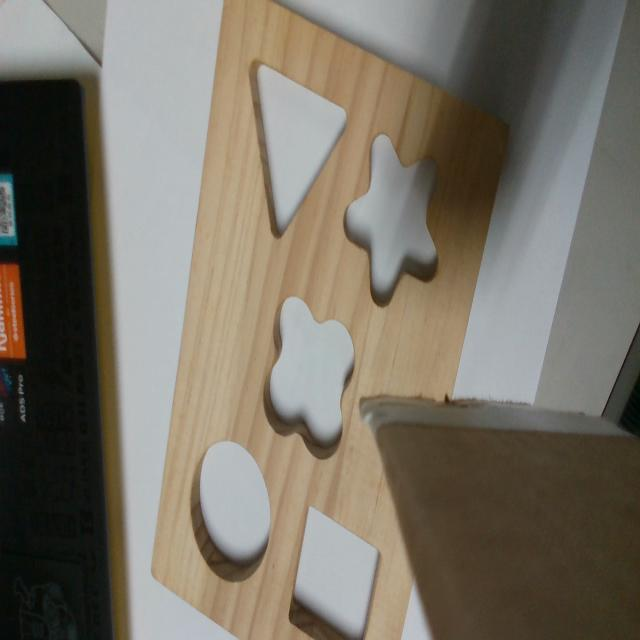circle: (192, 445, 270, 579)
flower: (262, 299, 353, 457)
square: (287, 504, 385, 635)
star: (344, 133, 438, 300)
triangle: (250, 54, 349, 244)
